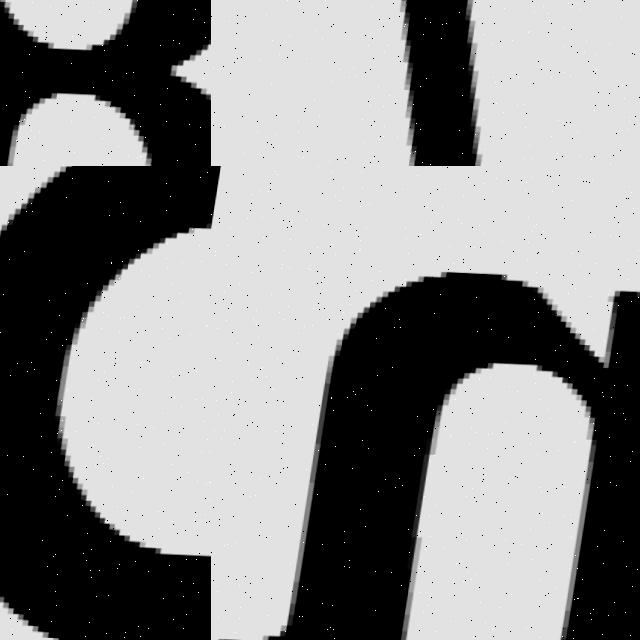8: (0, 0, 211, 166)
C: (0, 166, 211, 640)
L: (284, 0, 633, 166)
U: (211, 255, 640, 640)
